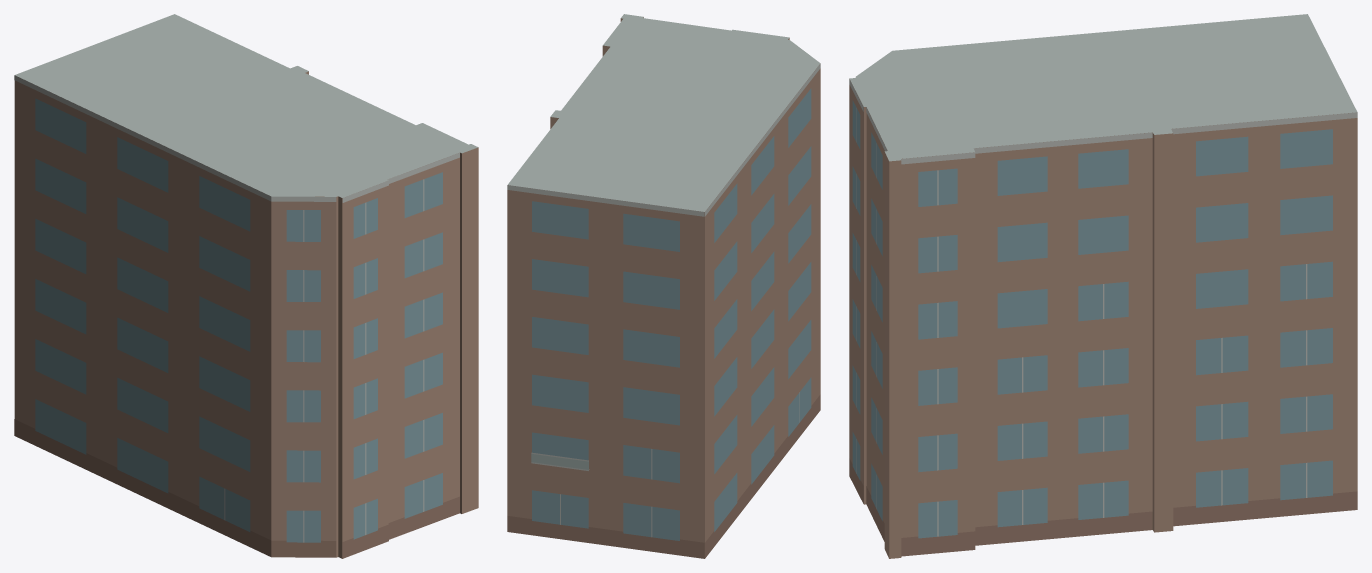
The model's file is survey-upis-33040730.glb.
The picture shows the model from 3 angles, left to right: view 1: azimuth 30°, elevation 25°; view 2: azimuth 150°, elevation 25°; view 3: azimuth 270°, elevation 25°; orthographic projection. The views are drawn at different scales.
Parts seen in each view (by area): view 1: survey-upis-33040730.tmp; view 2: survey-upis-33040730.tmp; view 3: survey-upis-33040730.tmp.
Boxes of the visible parts, bbox=[...] form: survey-upis-33040730.tmp: bbox=[14, 14, 478, 558]; survey-upis-33040730.tmp: bbox=[507, 14, 820, 558]; survey-upis-33040730.tmp: bbox=[849, 14, 1357, 558].
Size of the model in its own units: 13.76 by 17.3 by 20.05.
